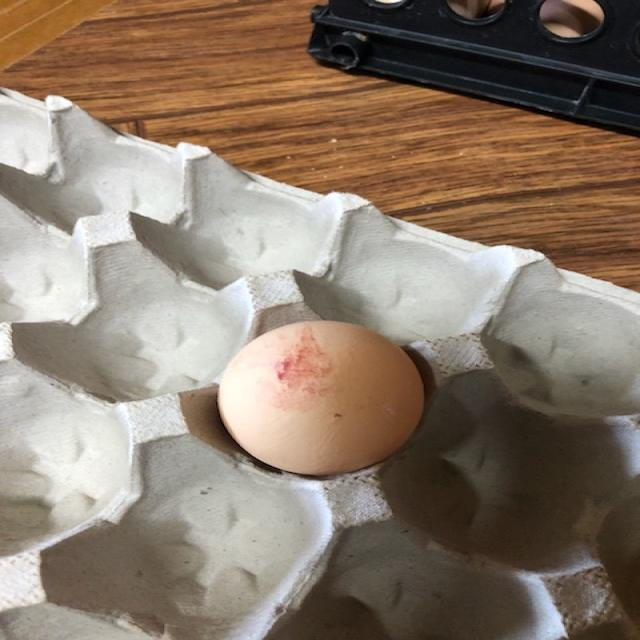Blood Stained Egg: (215, 317, 443, 476)
